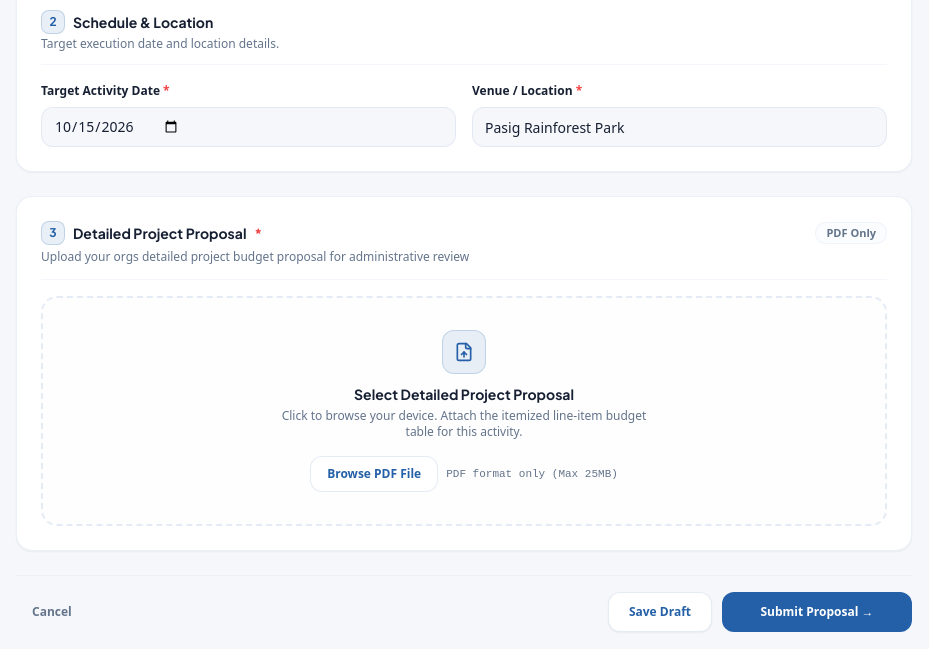
UserPortal - Create Budget Request Submit Interaction & UI Polish › F. Action Area Hierarchy & Concurrent Safety › disables Cancel and Save Draft buttons while proposal submission is active
(page scrolled)
Click the button with test id "submit-budget-proposal-button" at {"x": 817, "y": 612}, box [722,592,912,632]
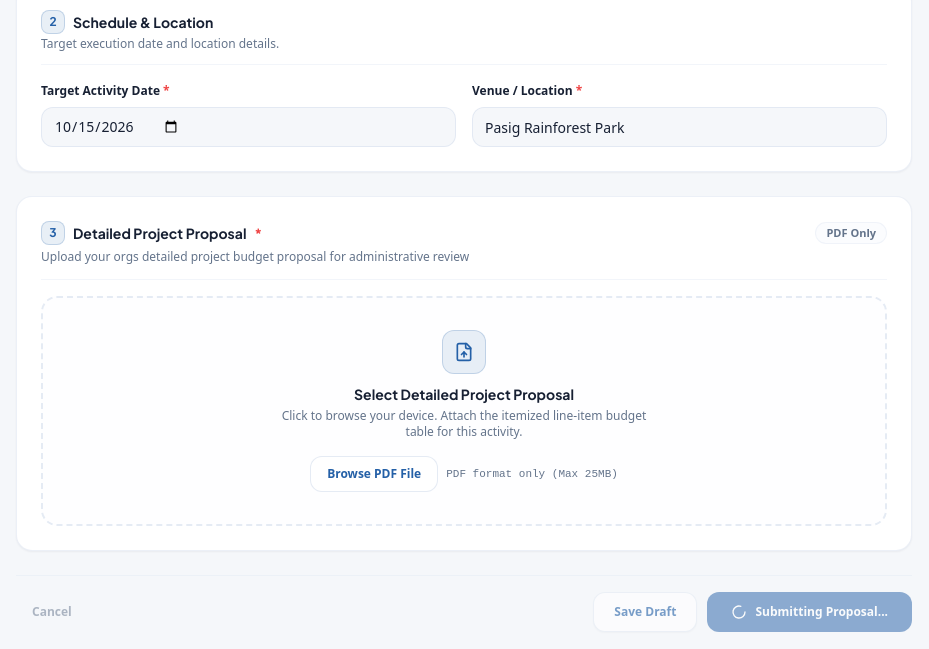
Result: the button with test id "submit-budget-proposal-button" is disabled at [708,592,912,632]
Result: the button with test id "save-budget-draft-button" is disabled
Result: the button with test id "cancel-budget-form-button" is disabled at [16,592,88,632]
Note: Clicking Save Draft during submission does not fire a concurrent call
Click the button with test id "save-budget-draft-button" at {"x": 645, "y": 612}, box [593,592,698,632]
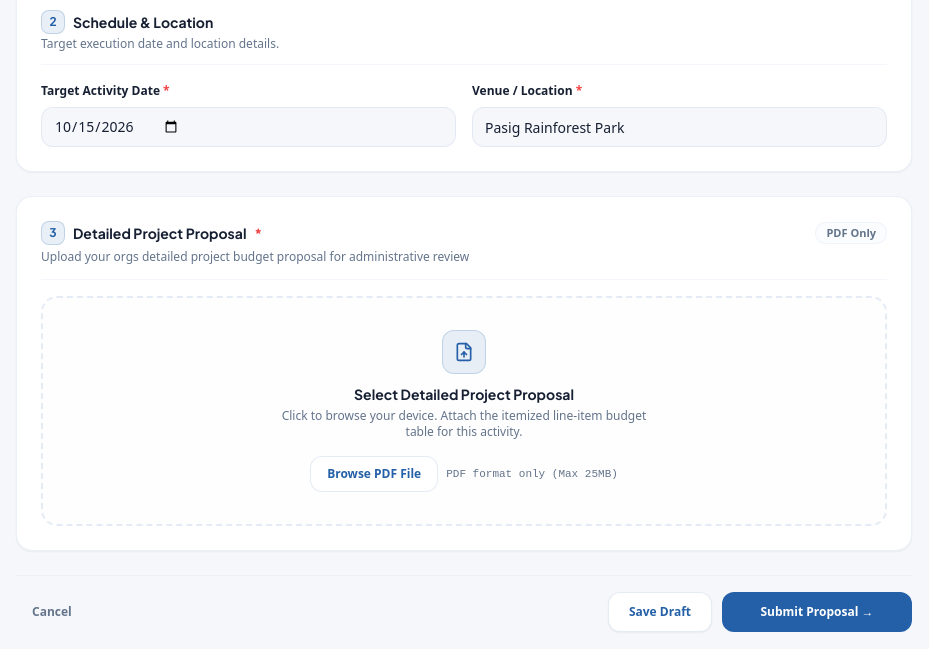
Result: the button with test id "submit-budget-proposal-button" is enabled at [722,592,912,632]
Result: the button with test id "save-budget-draft-button" is enabled at [608,592,712,632]
Result: the button with test id "cancel-budget-form-button" is enabled at [16,592,88,632]
